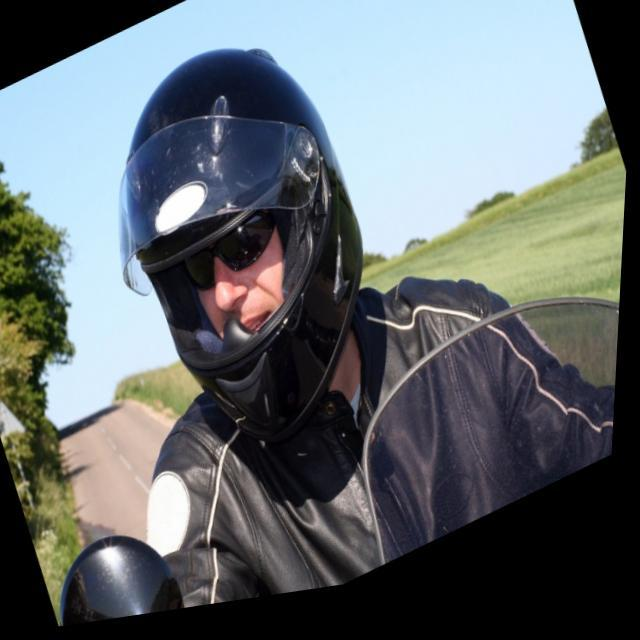Helmet: (106, 31, 372, 448)
